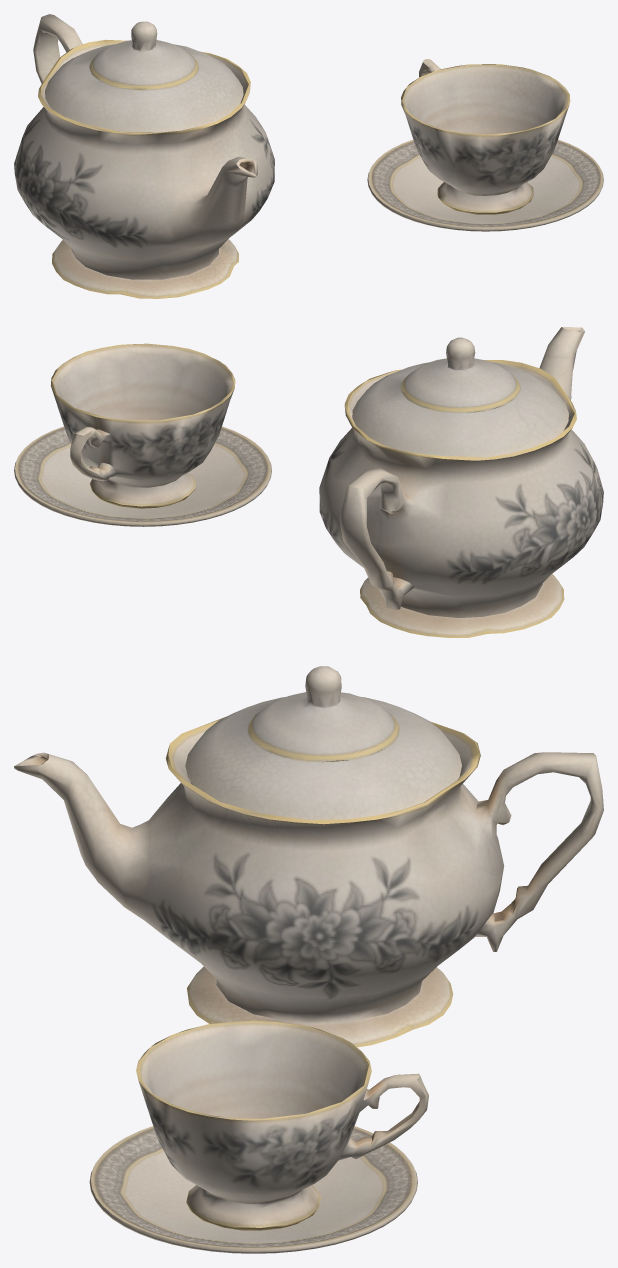
The model's file is tea_set_01.glb.
3 renders of one model, top to bottom at view 1: azimuth 30°, elevation 25°; view 2: azimuth 150°, elevation 25°; view 3: azimuth 270°, elevation 25°, orthographic. The views are drawn at different scales.
Parts seen in each view (by area): view 1: tea_set_01_teapot_01, tea_set_01_cup_small_01, tea_set_01_teapot_01_lid, tea_set_01_saucer_circular_04; view 2: tea_set_01_teapot_01, tea_set_01_cup_small_01, tea_set_01_teapot_01_lid, tea_set_01_saucer_circular_04; view 3: tea_set_01_teapot_01, tea_set_01_cup_small_01, tea_set_01_teapot_01_lid, tea_set_01_saucer_circular_04.
Part boxes in pixels (x1,y1,x2,y2): tea_set_01_teapot_01: (14,14,274,298); tea_set_01_cup_small_01: (401,59,570,214); tea_set_01_teapot_01_lid: (45,21,243,132); tea_set_01_saucer_circular_04: (367,139,603,231); tea_set_01_teapot_01: (319,327,603,637); tea_set_01_cup_small_01: (50,343,235,508); tea_set_01_teapot_01_lid: (352,337,568,457); tea_set_01_saucer_circular_04: (14,426,271,526); tea_set_01_teapot_01: (14,716,603,1047); tea_set_01_cup_small_01: (136,1020,428,1230); tea_set_01_teapot_01_lid: (185,666,461,819); tea_set_01_saucer_circular_04: (89,1126,417,1253).
Bounding box in the file's own units: 0.3872 × 0.1648 × 0.2676.
Materials: 1 (1 with a texture image).
